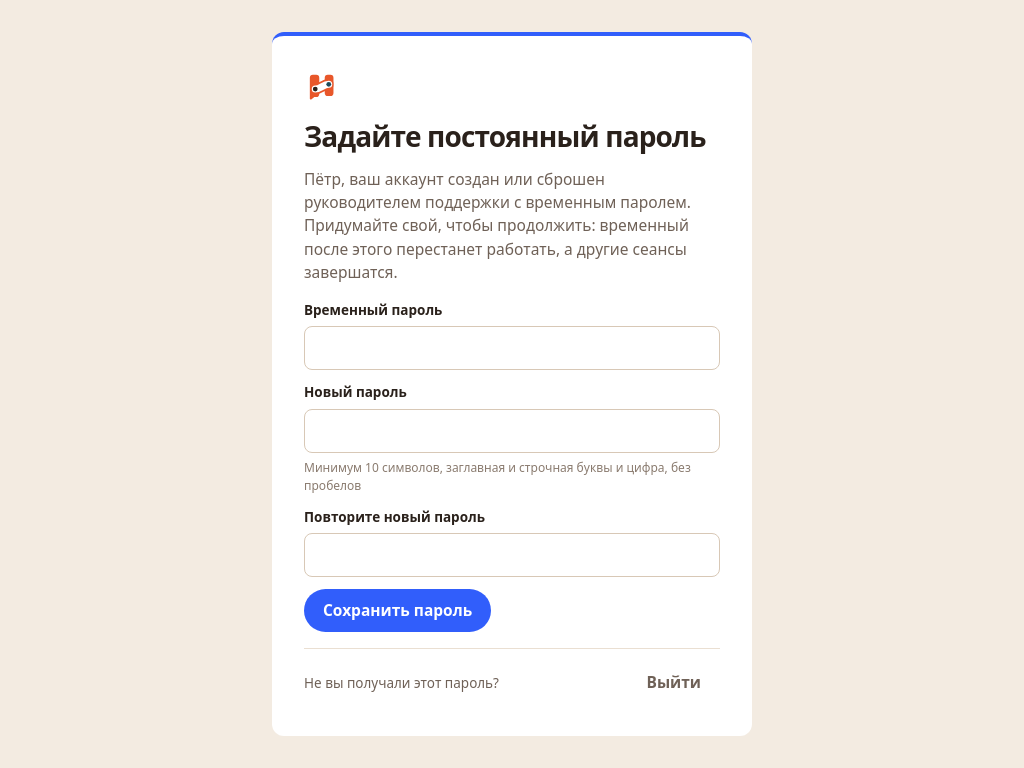
Test: forced password change › changes the password, refreshes the session and opens the workspace
Type "Tmp-9xQ4-LmZ2" into the password field labelled "Временный пароль".
click(512, 348); type("Tmp-9xQ4-LmZ2")  # box [304,326,720,370]
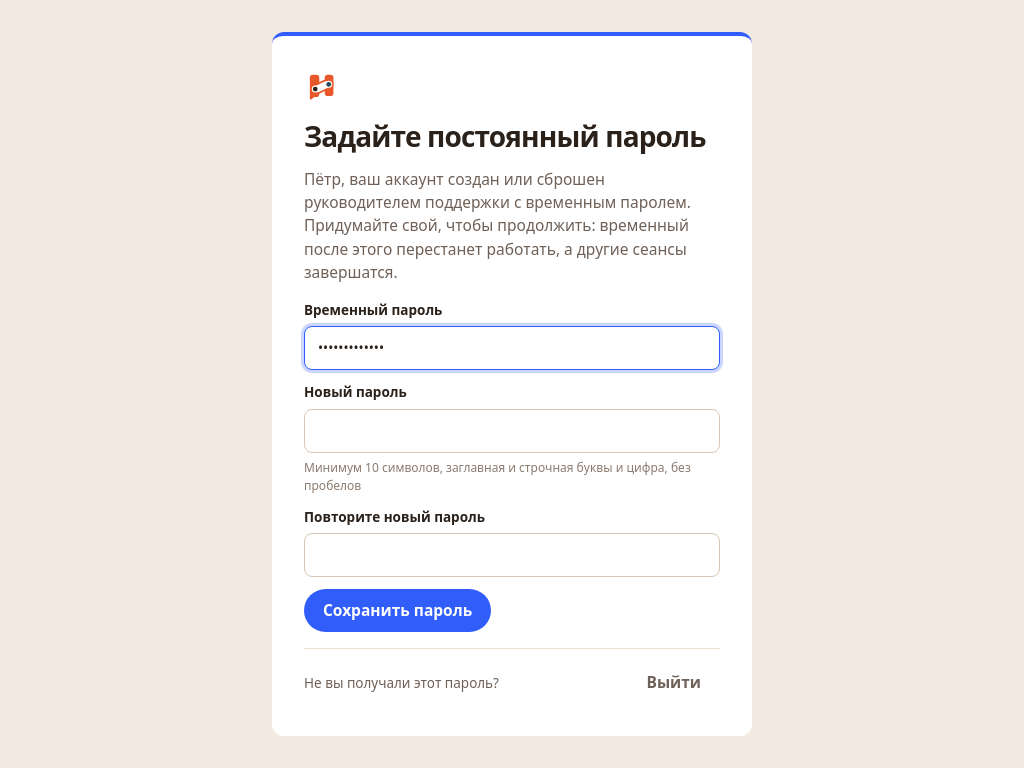
Type "MyStrong2026" into the password field labelled "Новый пароль".
click(512, 431); type("MyStrong2026")  # box [304,409,720,453]
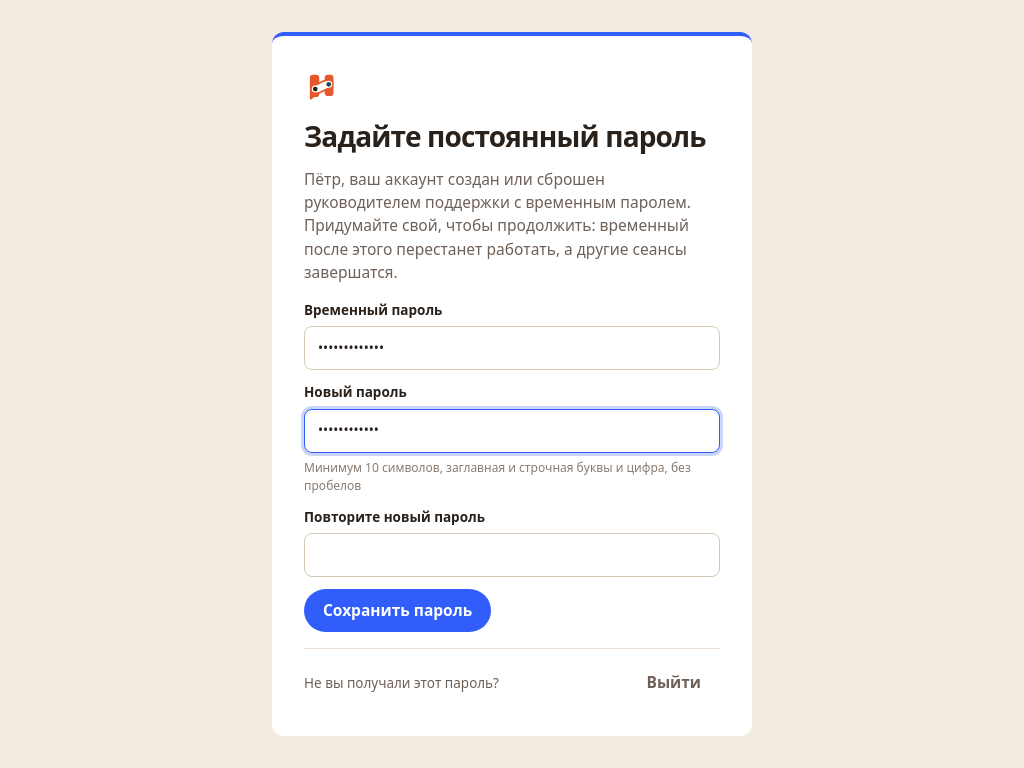
Type "MyStrong2026" into the password field labelled "Повторите новый пароль".
click(512, 555); type("MyStrong2026")  # box [304,533,720,577]
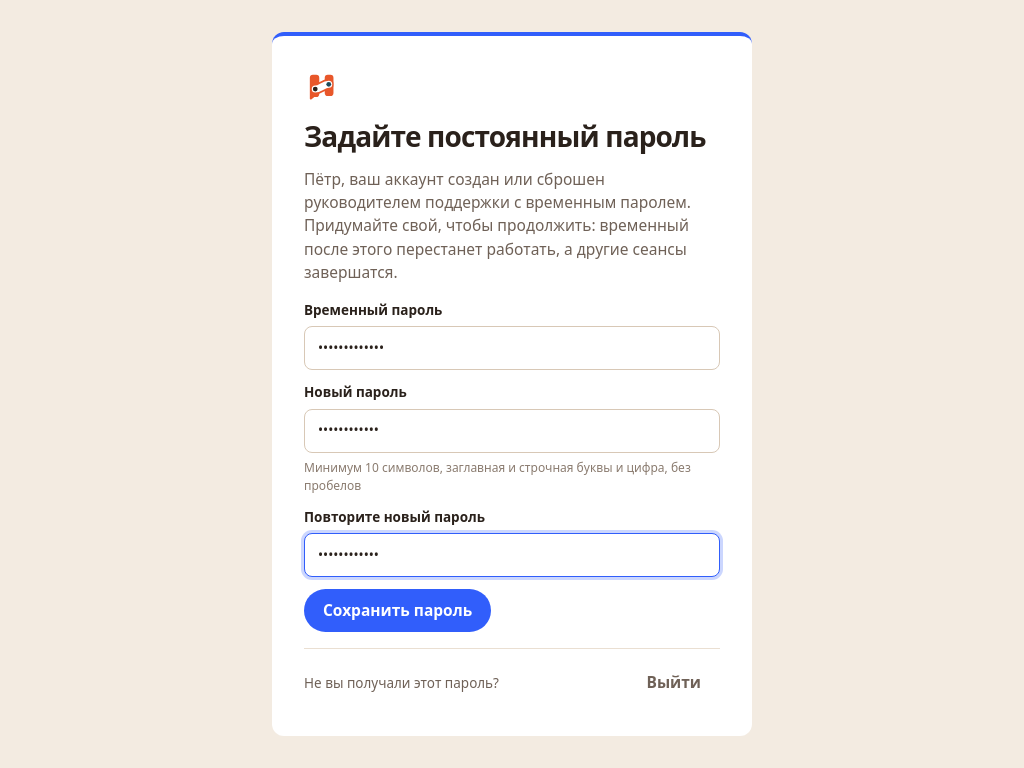
Click the button "Сохранить пароль".
click(398, 610)  # box [304,589,491,632]
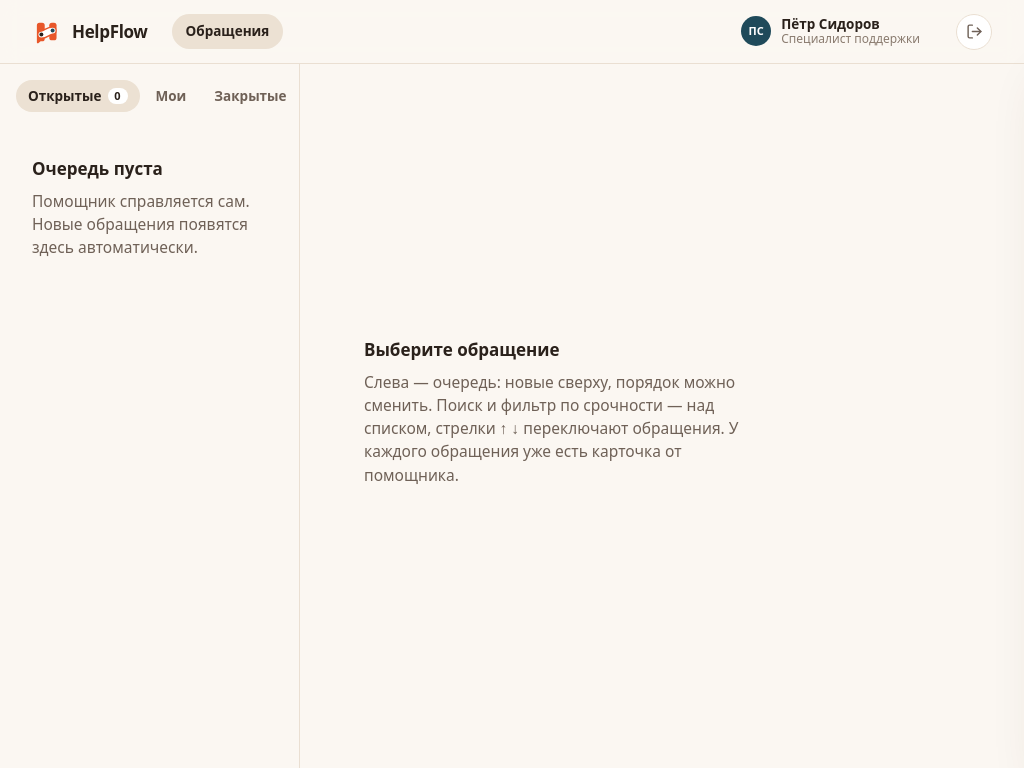
Expected: the text "Очередь пуста" is shown, [32,156,163,182]
